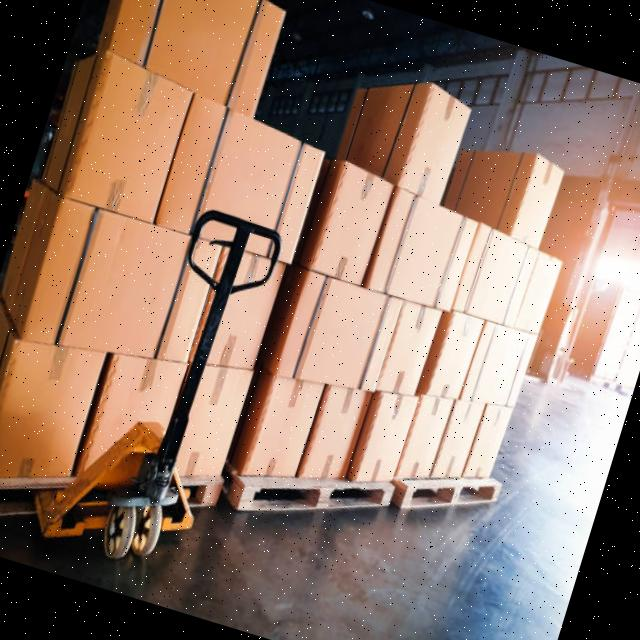Wooden-Pallets: (228, 470, 399, 518), (387, 473, 508, 535)
